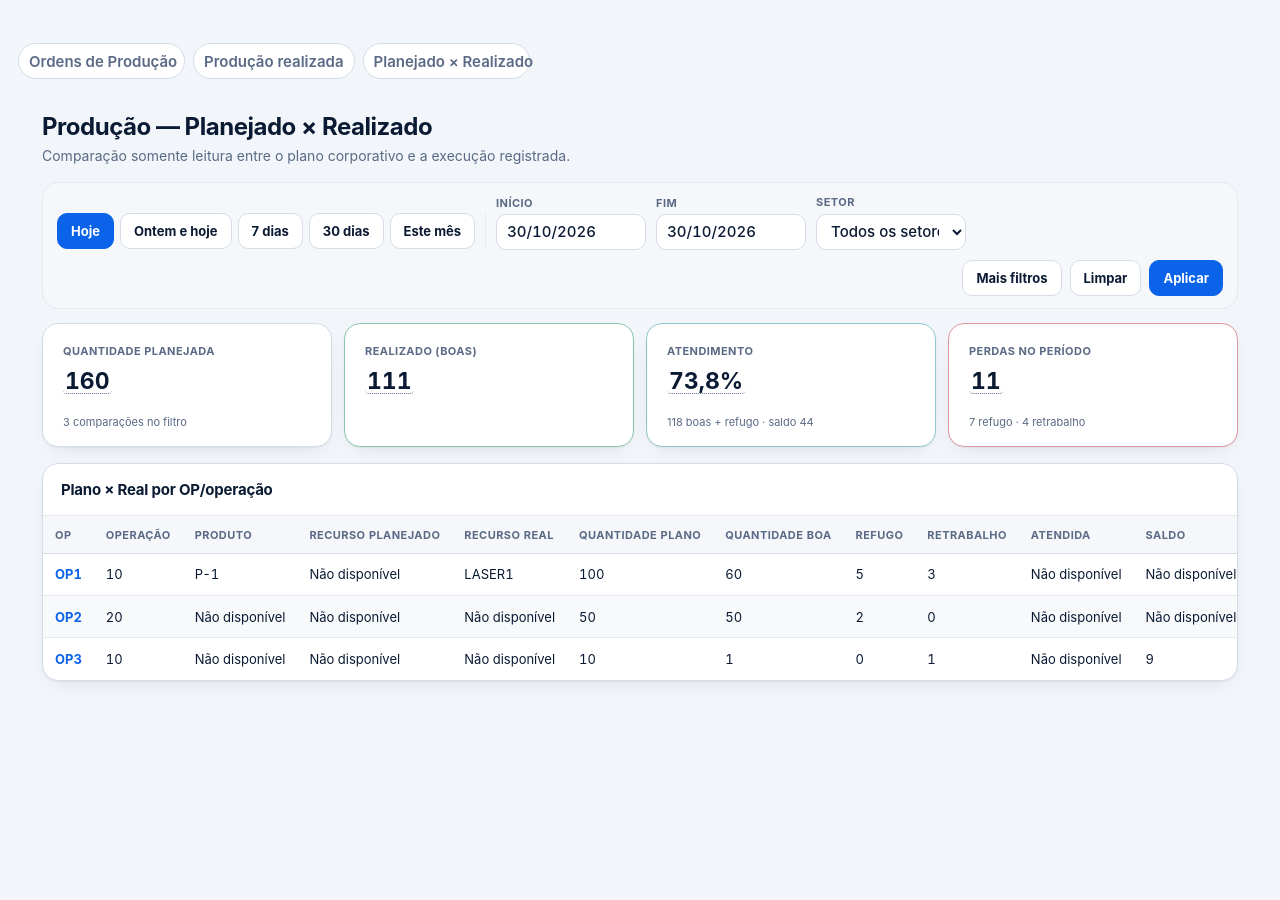
Test: Produção: cartões somados no navegador › Planejado × Realizado: atendimento mostra as entradas e perdas soma refugo + retrabalho
Click the button named "Atendimento 73,8%" at [706, 382], box [667,370,745,394]
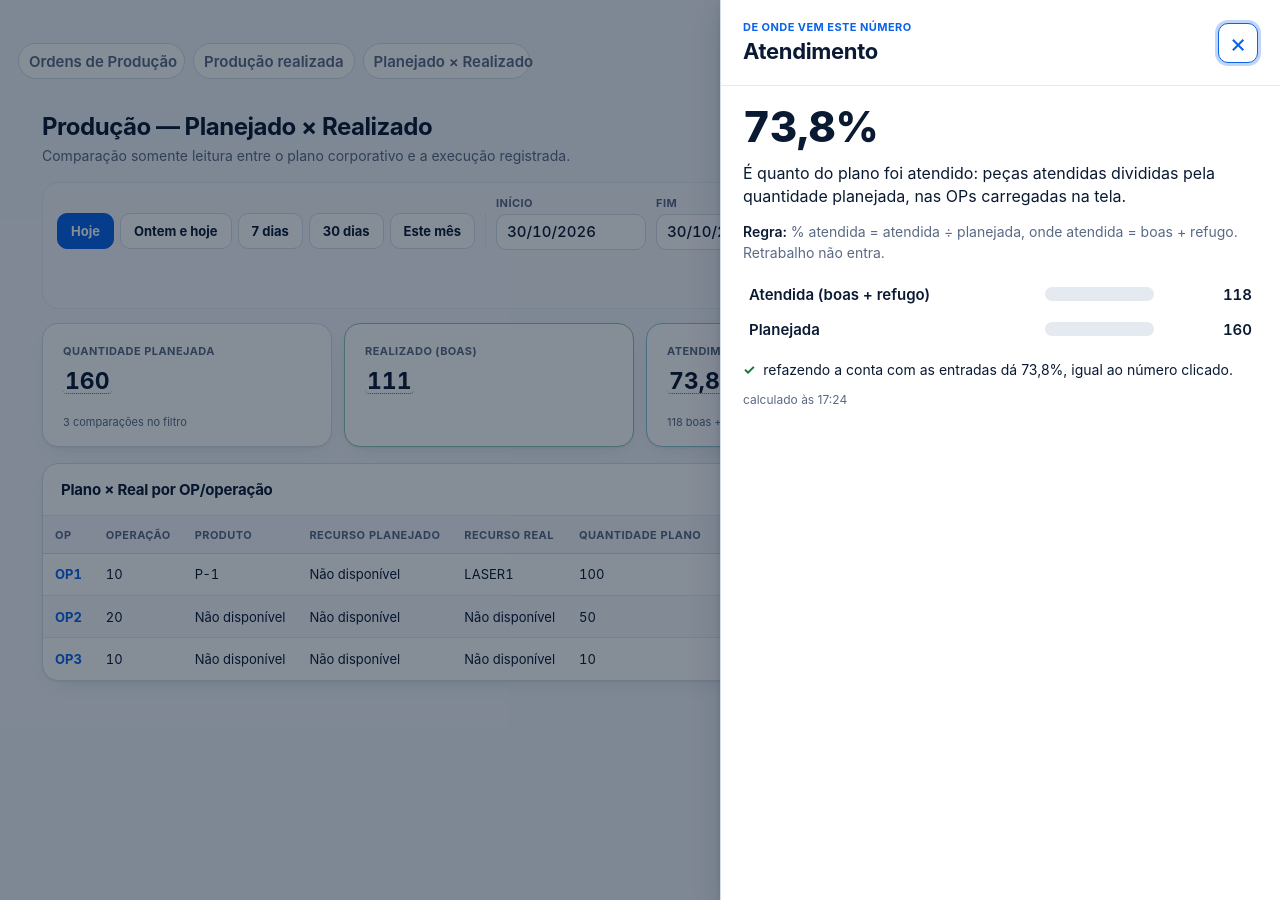
Expected: the text with test id "explanation-total" reads "73,8%", [743,101,879,152]
Expected: the dialog "Atendimento" shows "Atendida (boas + refugo)", [749,285,930,304]
Expected: the dialog "Atendimento" shows "118", [1223,285,1252,304]
Click the button named "Fechar explicação" at [1238, 42], box [1218,22,1258,62]
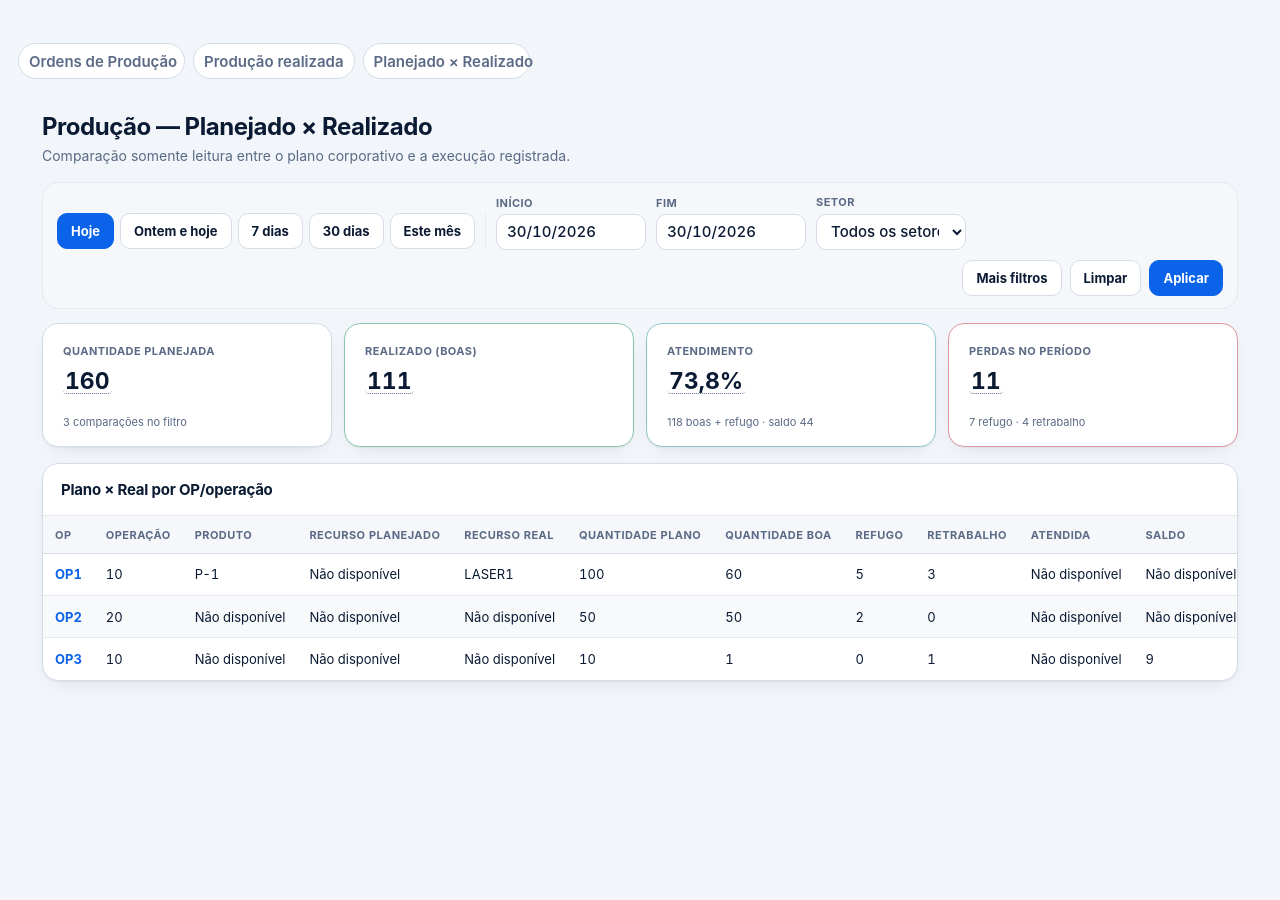
Click the button named "Perdas no período 11" at [986, 382], box [969,370,1003,394]
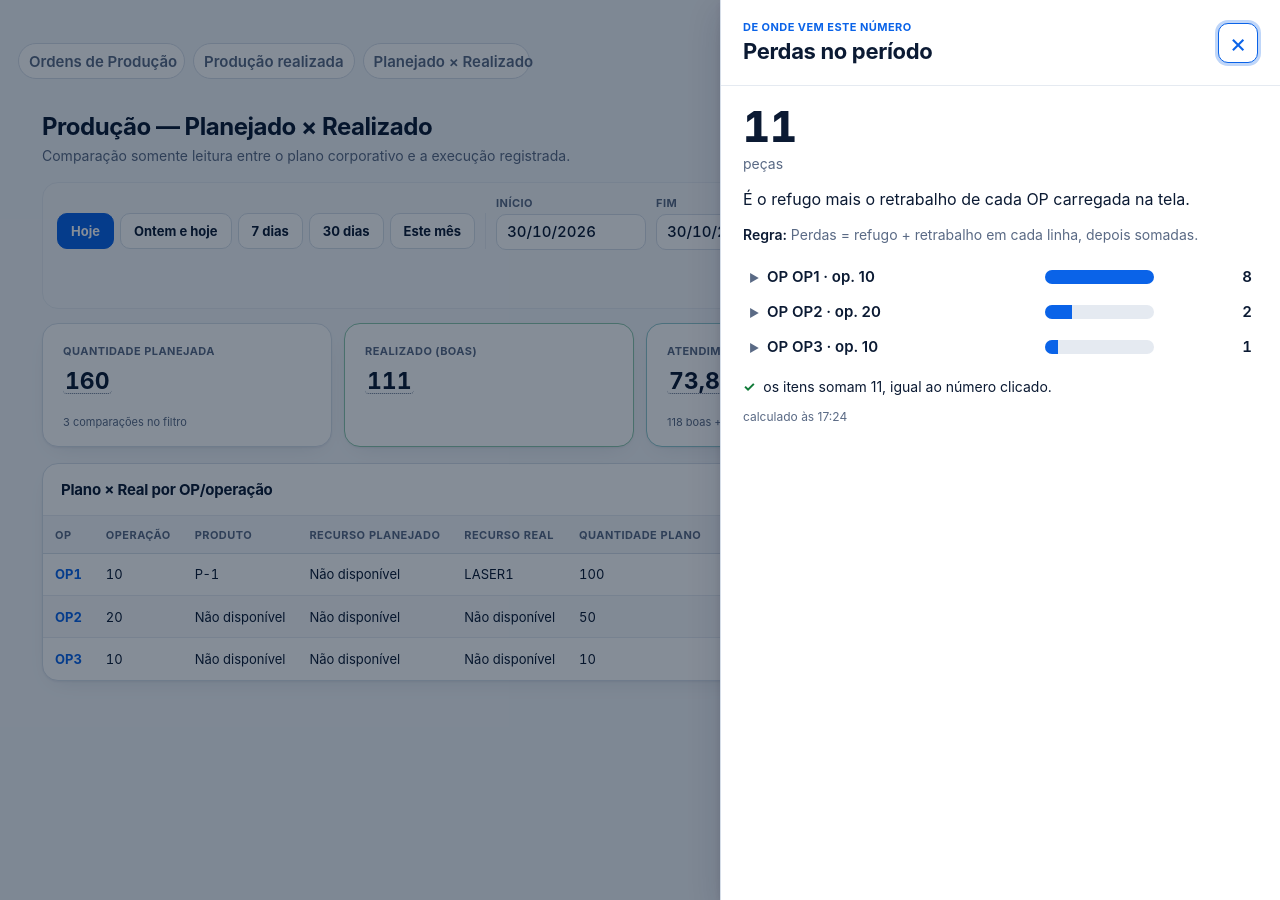
Expected: the dialog "Perdas no período" shows "os itens somam 11", [763,378,1052,395]
